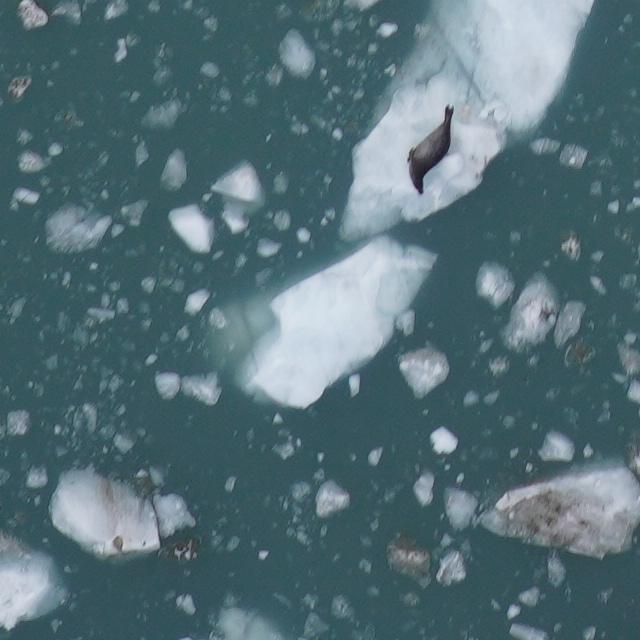seal: (401, 102, 459, 198)
